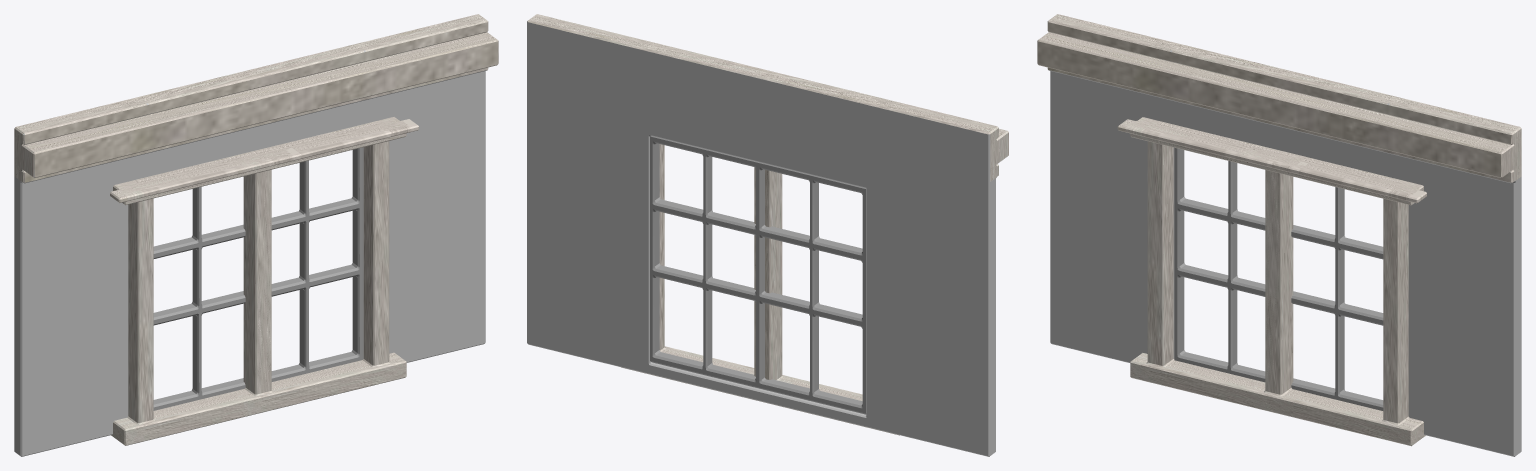
File: WindowV4.fbx
The picture shows the model from 3 angles, left to right: view 1: azimuth 30°, elevation 25°; view 2: azimuth 150°, elevation 25°; view 3: azimuth 330°, elevation 25°; orthographic projection.
Visible parts, largest first — view 1: pCube33, big_window_frame5, big_window_frame4, big_window17, big_window13; view 2: pCube33, big_window17, big_window13, big_window_frame5, big_window_frame4; view 3: pCube33, big_window_frame4, big_window_frame5, big_window13, big_window17.
Boxes of the visible parts, x1,y1,x2,y2 form: pCube33: (14,14,498,456); big_window_frame5: (229,117,419,416); big_window_frame4: (110,147,301,445); big_window17: (271,147,362,381); big_window13: (153,187,245,410); pCube33: (527,14,1008,456); big_window17: (650,136,764,388); big_window13: (756,161,866,414); big_window_frame5: (621,144,797,403); big_window_frame4: (738,167,899,435); pCube33: (1037,14,1521,456); big_window_frame4: (1117,117,1307,417); big_window_frame5: (1236,149,1426,446); big_window13: (1174,147,1265,382); big_window17: (1291,187,1383,410).
Bounding box in the file's own units: 784 × 529 × 66.23.
